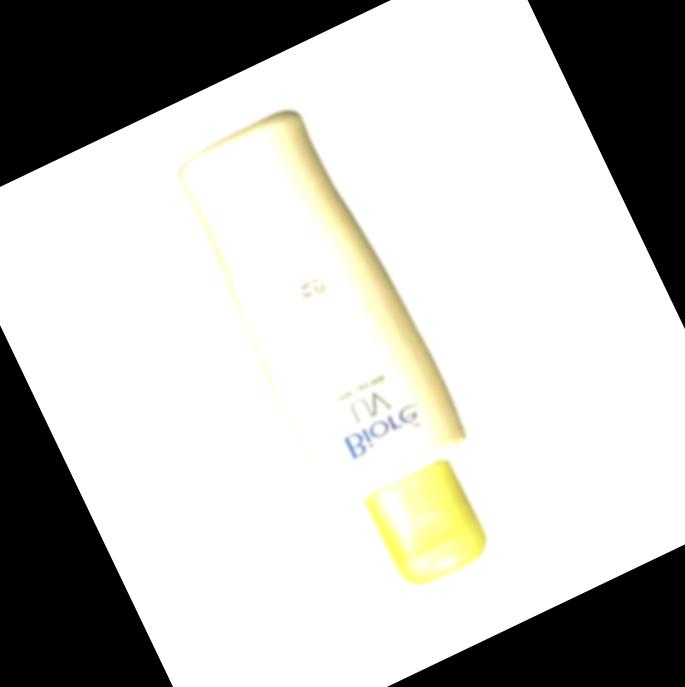cosmetic: (165, 97, 521, 612)
